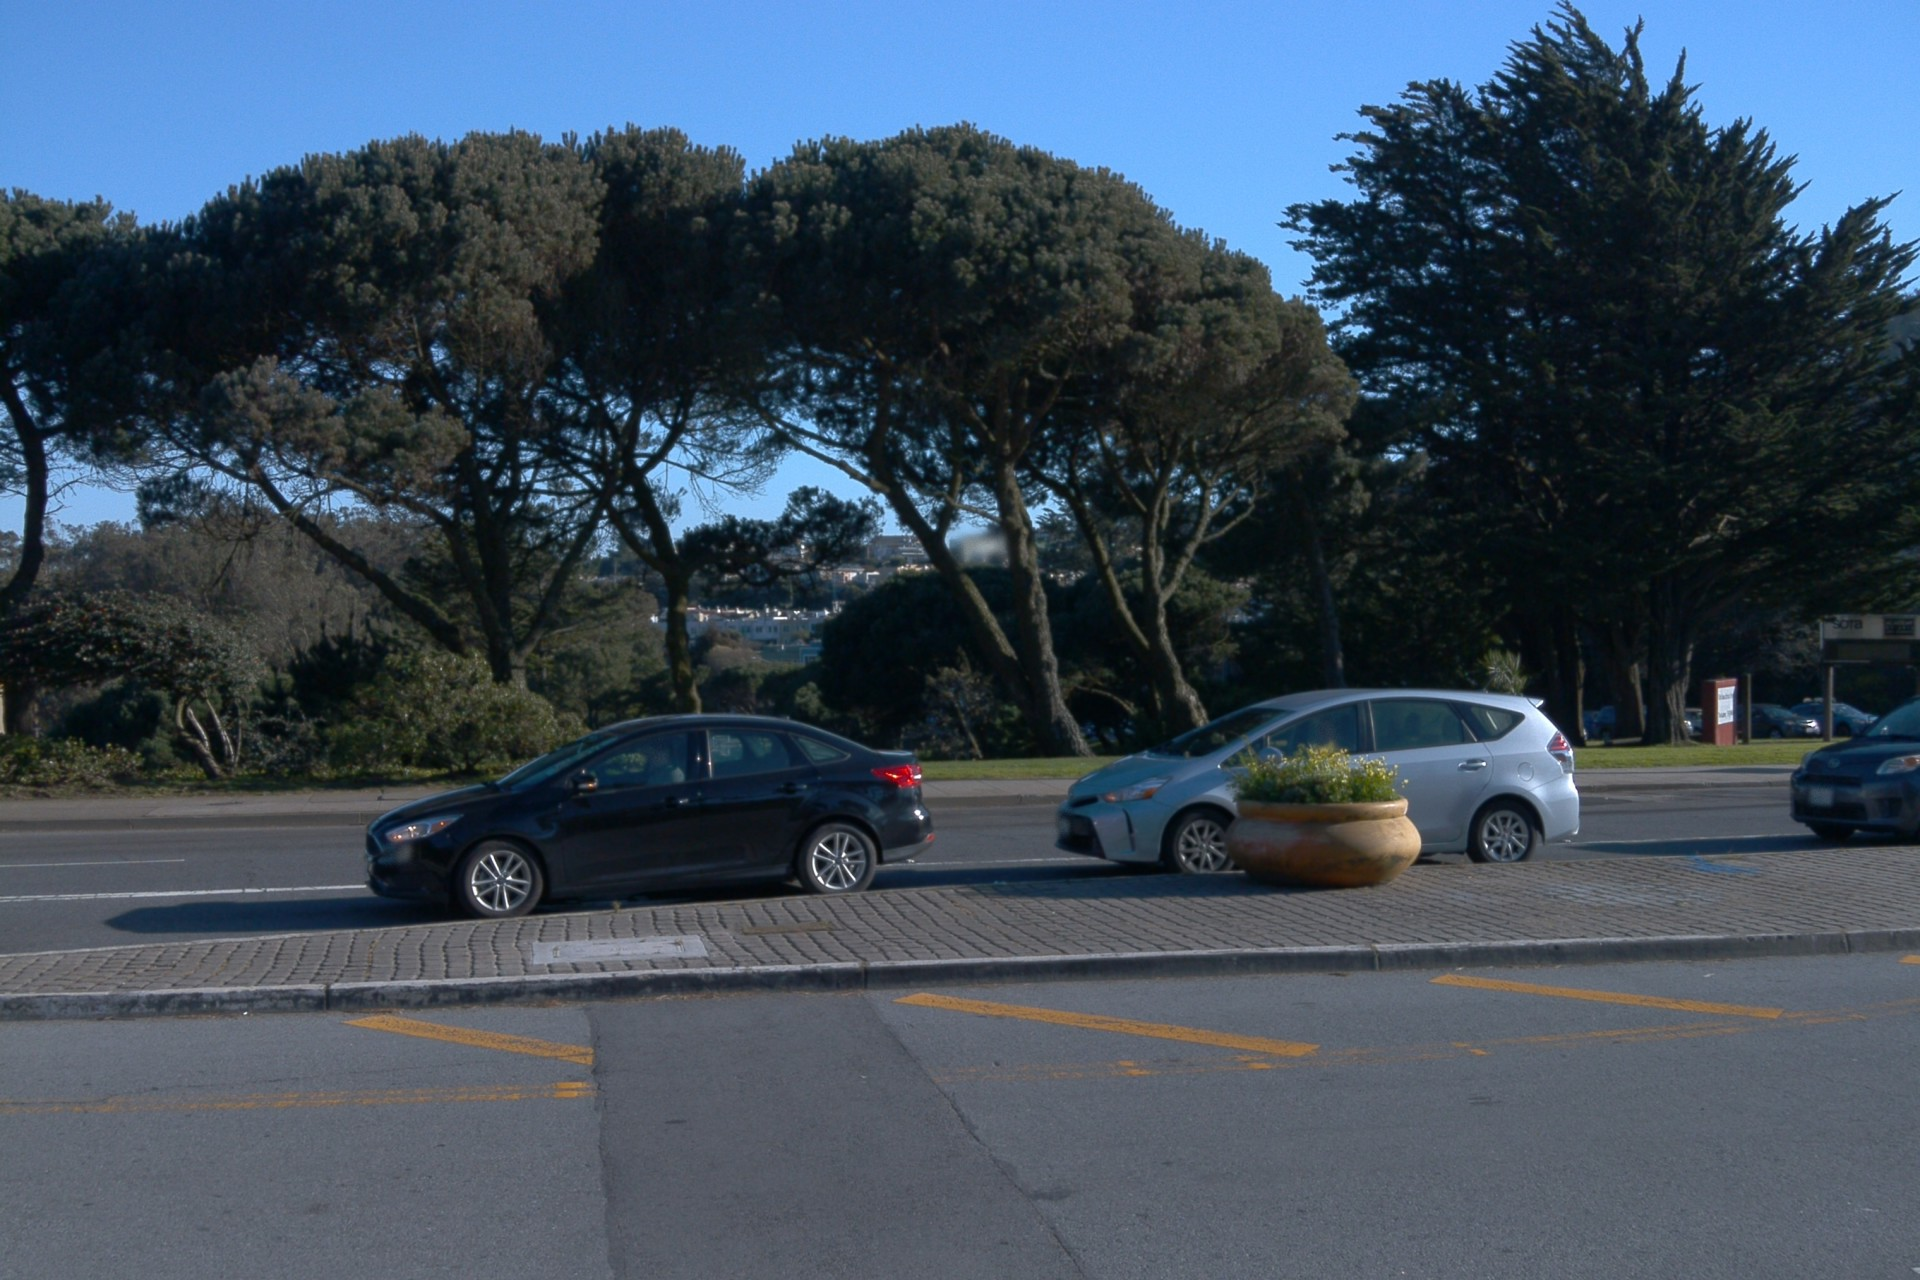TYPE_VEHICLE: (359, 713, 939, 923), (1053, 690, 1580, 880), (1788, 697, 1920, 844), (1592, 704, 1694, 742), (1738, 702, 1822, 741), (1791, 704, 1877, 739), (1683, 708, 1705, 739), (1581, 727, 1588, 742)
